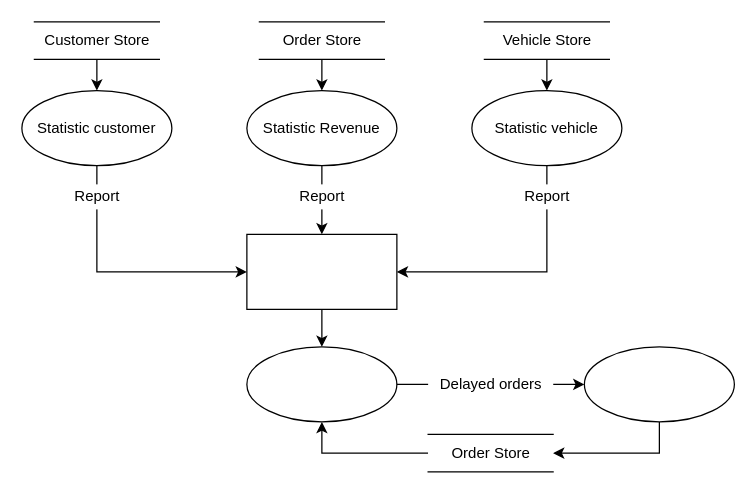
This 756x494 diagram has some shape labels left out. The shapes that lost their labels are listed below. From the top down, each one's centre as x and y in pixels, then its label:
At (321,271): "Dealer".
At (321,384): "Check status order".
At (658,384): "Solve order".
